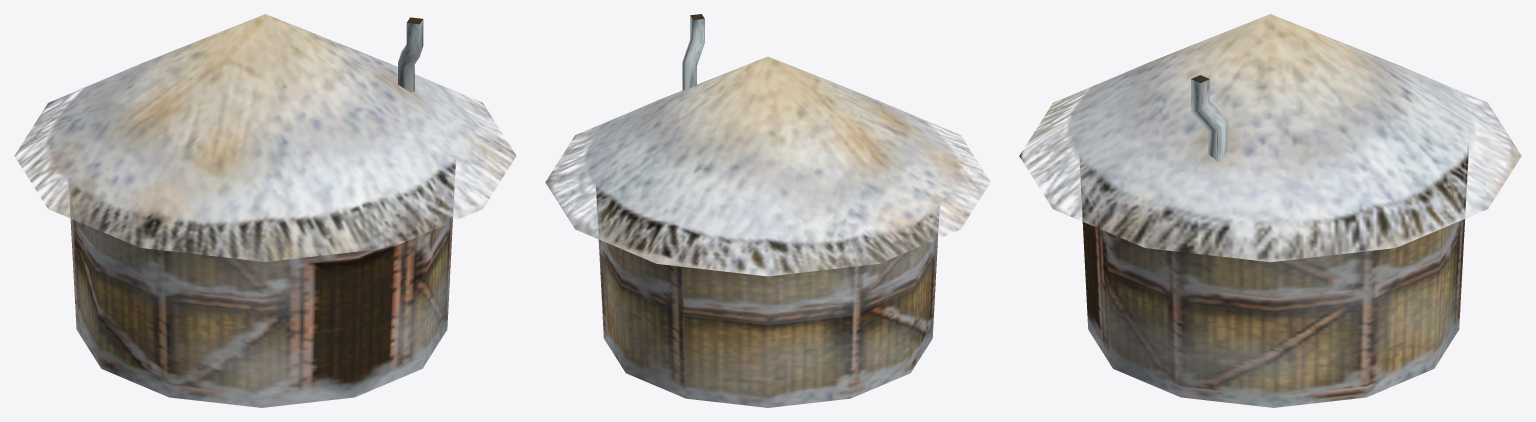
Rendered from Civilian - Civilian Building - Grass Hut 03 - Snow - CBGrasHut3_S.glb.
3 views of the same model, side by side, from view 1: azimuth 30°, elevation 25°; view 2: azimuth 150°, elevation 25°; view 3: azimuth 270°, elevation 25° (orthographic). The views are drawn at different scales.
Visible parts, largest first — view 1: CBGRASHUT3_S; view 2: CBGRASHUT3_S; view 3: CBGRASHUT3_S.
Boxes of the visible parts, left/top/right/bottom form: CBGRASHUT3_S: left=14, top=14, right=516, bottom=407; CBGRASHUT3_S: left=545, top=14, right=990, bottom=407; CBGRASHUT3_S: left=1019, top=14, right=1521, bottom=407.
Size of the model in its own units: 31.83 by 22.12 by 31.83.
Materials: 1 (1 with a texture image).
